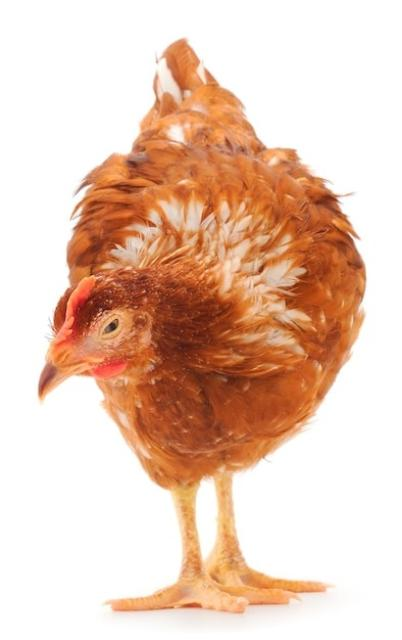Chicken: (36, 35, 367, 612)
